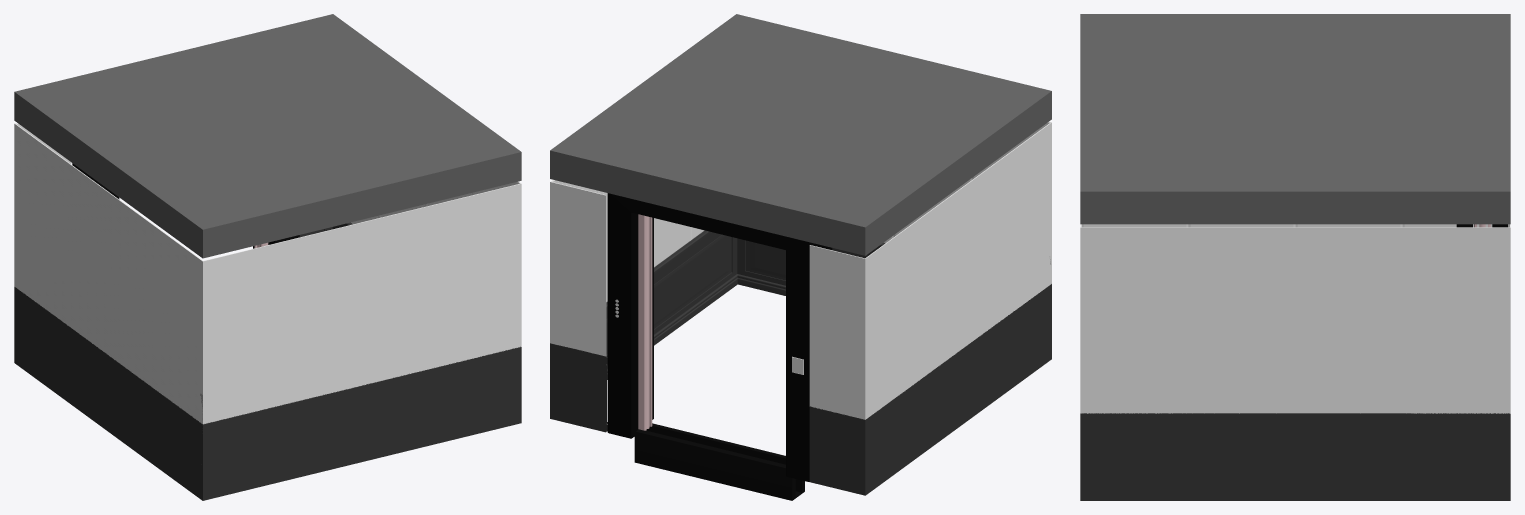
File: homeElevator.FBX
3 renders of one model, left to right at view 1: azimuth 30°, elevation 25°; view 2: azimuth 150°, elevation 25°; view 3: azimuth 270°, elevation 25°, orthographic. The views are drawn at different scales.
Parts seen in each view (by area): view 1: Perila01, Rectangle018, Perila; view 2: Rectangle018, Perila01, Perila, Rectangle020, Rectangle021, Rectangle022, Rectangle023, Rectangle024; view 3: Rectangle018, Perila01, Perila.
Boxes of the visible parts, left/top/right/bottom form: Perila01: left=14, top=123, right=521, bottom=424; Rectangle018: left=14, top=14, right=521, bottom=258; Perila: left=14, top=222, right=521, bottom=500; Rectangle018: left=550, top=14, right=1051, bottom=255; Perila01: left=550, top=121, right=1051, bottom=419; Perila: left=550, top=230, right=1051, bottom=495; Rectangle020: left=607, top=193, right=812, bottom=481; Rectangle021: left=634, top=423, right=804, bottom=500; Rectangle022: left=638, top=214, right=646, bottom=430; Rectangle023: left=646, top=216, right=649, bottom=428; Rectangle024: left=649, top=217, right=652, bottom=426; Rectangle018: left=1080, top=14, right=1510, bottom=224; Perila01: left=1080, top=224, right=1510, bottom=413; Perila: left=1080, top=413, right=1510, bottom=500.
Size of the model in its own units: 66.81 by 60.09 by 68.42.
